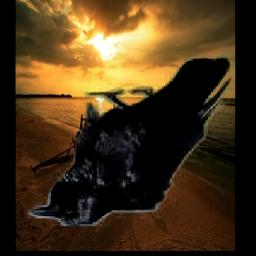Crow: (27, 55, 234, 227)
